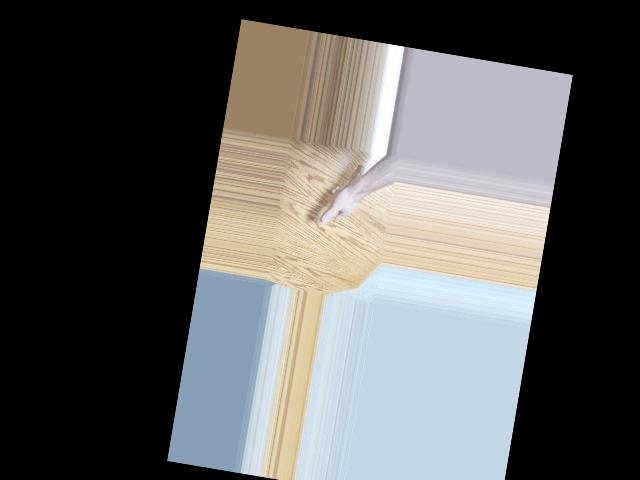sweet_potato: (314, 147, 368, 234)
